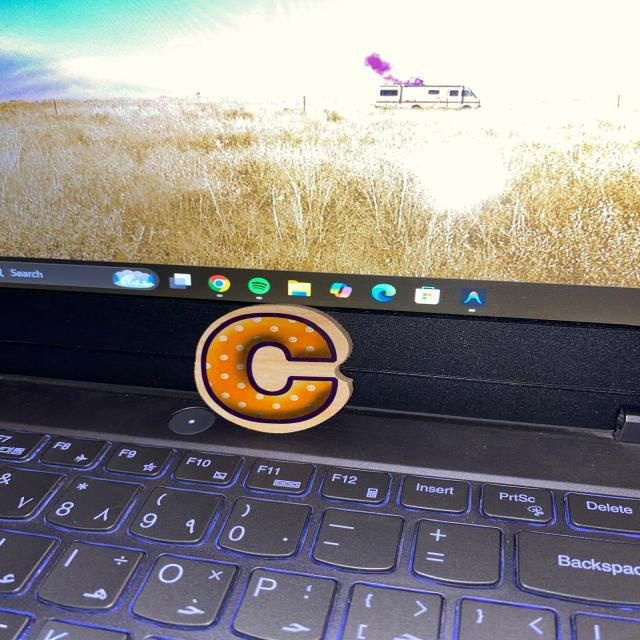C: (195, 304, 352, 432)
